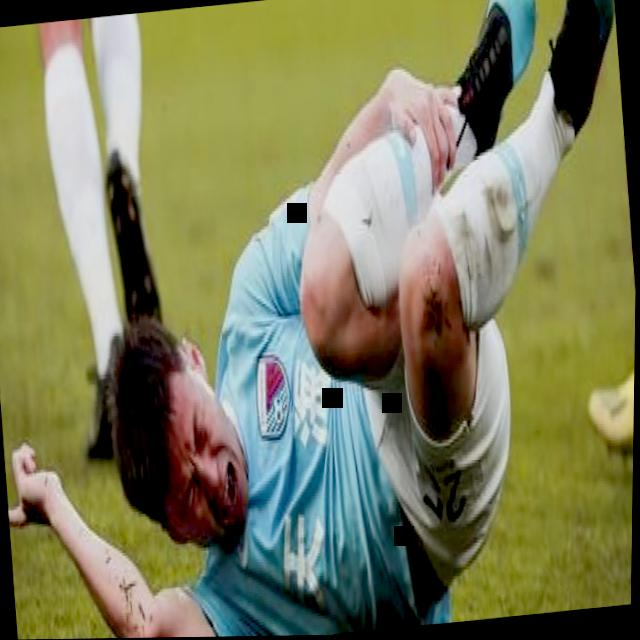Fall-Detected: (11, 0, 625, 640)
